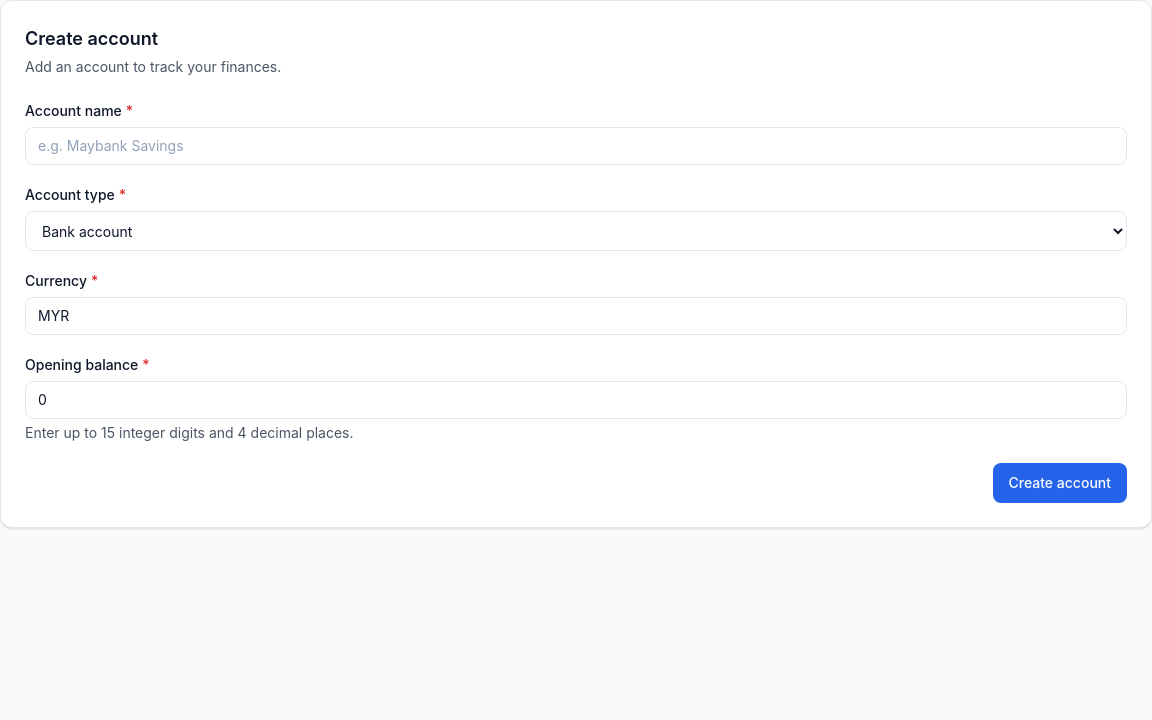
Test: CreateAccountForm › submits valid data and notifies the parent on success
This screenshot has width=1152, height=720.
Type "Maybank Savings" into the field labelled "Account name*" at (576, 146), box x1=25 y1=127 x2=1127 y2=165
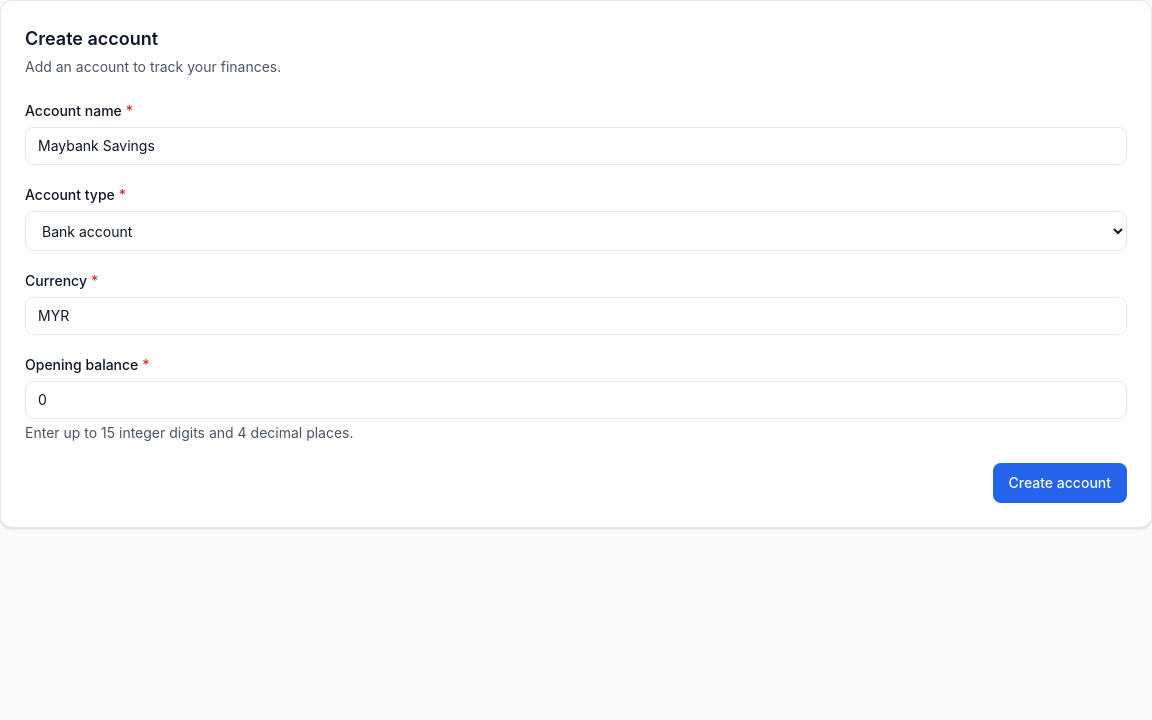
Replace the text in the field labelled "Opening balance*" with "1250.5000" at (576, 400), box x1=25 y1=381 x2=1127 y2=419
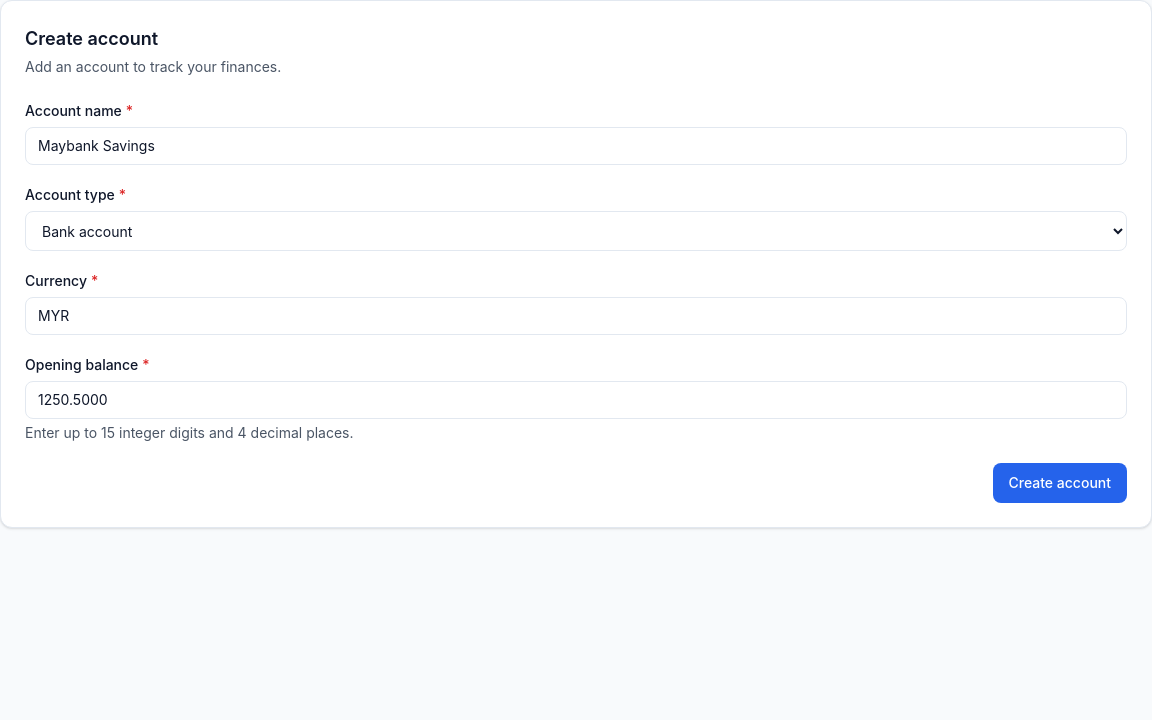
Click the button "Create account" at (1060, 483), box x1=992 y1=463 x2=1127 y2=503
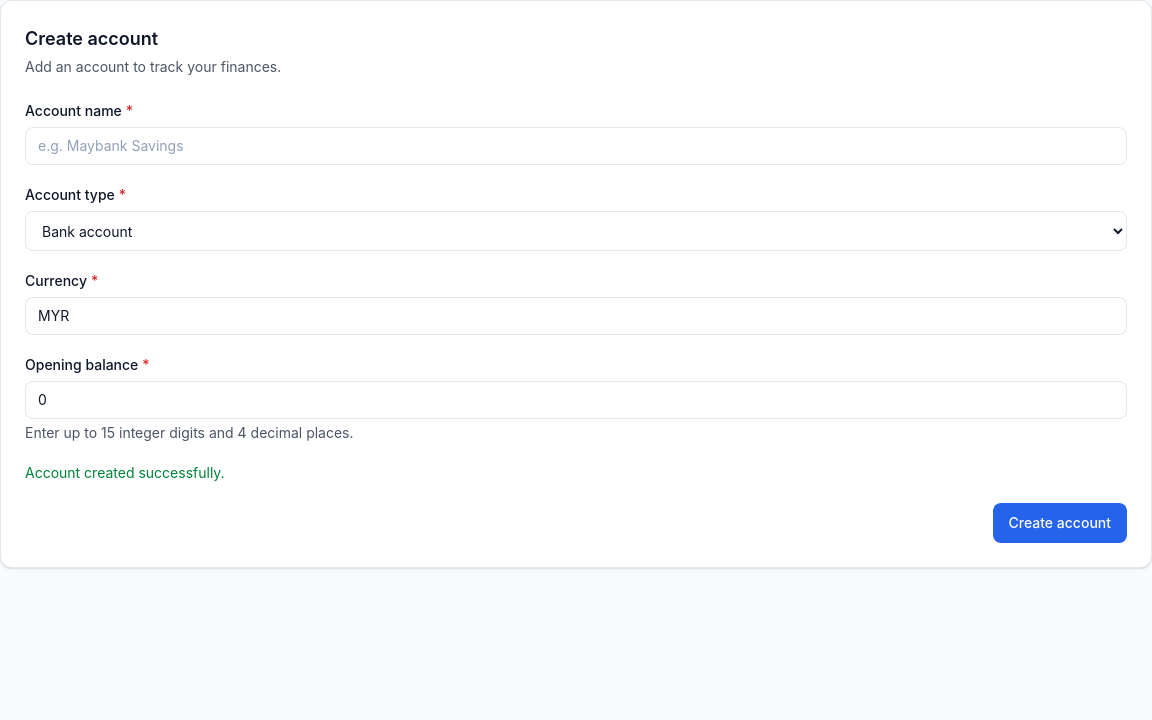
Expected: the message reads "Account created successfully.", x1=25 y1=464 x2=225 y2=481
